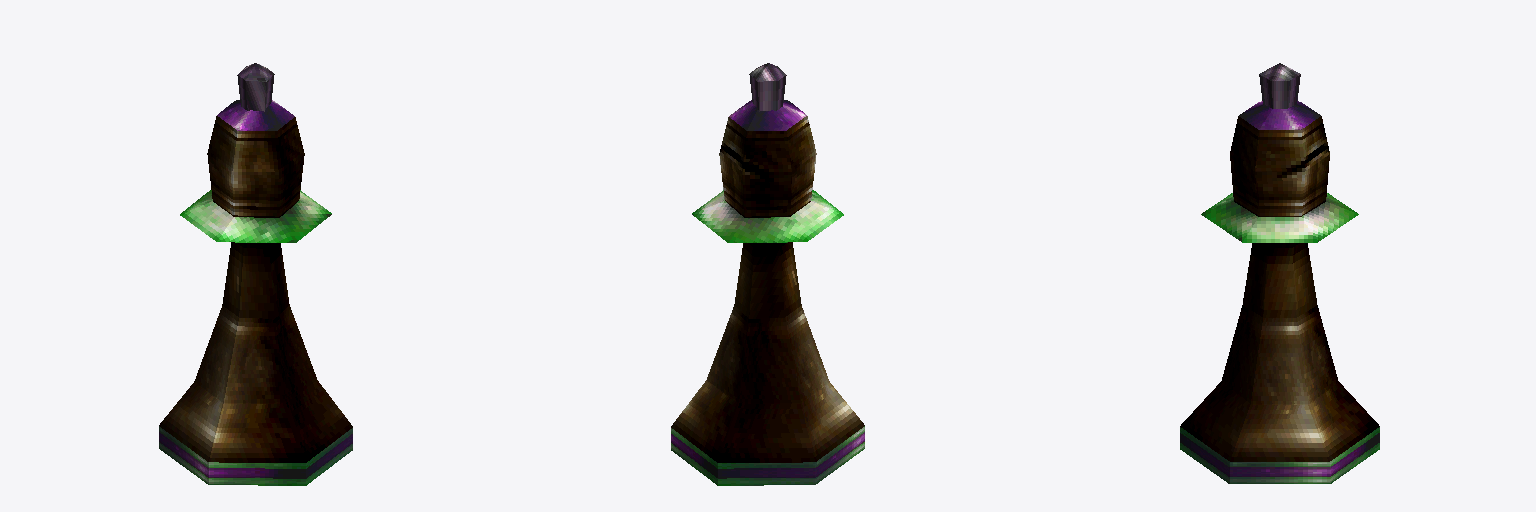
The picture shows the model from 3 angles: view 1: azimuth 30°, elevation 25°; view 2: azimuth 150°, elevation 25°; view 3: azimuth 270°, elevation 25°; orthographic projection.
Parts seen in each view (by area): view 1: Mesh4 Group5 Group1 Model, Mesh2 Group3 Group1 Model, Mesh1 Group2 Group1 Model, Mesh3 Group4 Group1 Model; view 2: Mesh4 Group5 Group1 Model, Mesh2 Group3 Group1 Model, Mesh1 Group2 Group1 Model, Mesh3 Group4 Group1 Model; view 3: Mesh4 Group5 Group1 Model, Mesh2 Group3 Group1 Model, Mesh1 Group2 Group1 Model, Mesh3 Group4 Group1 Model.
Boxes of the visible parts, box(x1,y1,x2,y2) form: Mesh4 Group5 Group1 Model: box(159, 242, 352, 485); Mesh2 Group3 Group1 Model: box(207, 100, 304, 217); Mesh1 Group2 Group1 Model: box(180, 190, 331, 242); Mesh3 Group4 Group1 Model: box(237, 63, 274, 111); Mesh4 Group5 Group1 Model: box(671, 242, 864, 485); Mesh2 Group3 Group1 Model: box(719, 100, 816, 217); Mesh1 Group2 Group1 Model: box(692, 190, 843, 242); Mesh3 Group4 Group1 Model: box(749, 63, 786, 111); Mesh4 Group5 Group1 Model: box(1180, 243, 1379, 483); Mesh2 Group3 Group1 Model: box(1230, 101, 1329, 216); Mesh1 Group2 Group1 Model: box(1201, 193, 1358, 242); Mesh3 Group4 Group1 Model: box(1259, 63, 1300, 108).
Size of the model in its own units: 1.89 by 4.82 by 2.27.
10 materials, 9 textured.